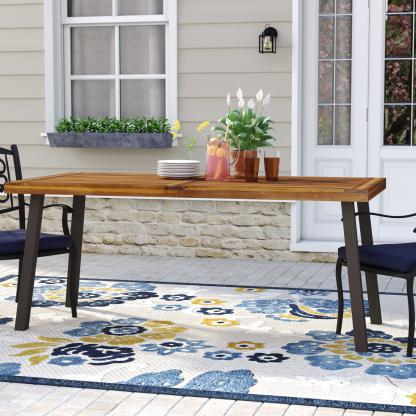table: (0, 162, 391, 356)
